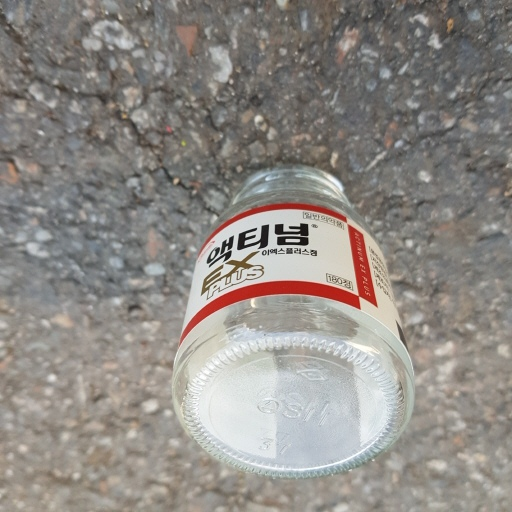Glass_5: (175, 160, 413, 469)
